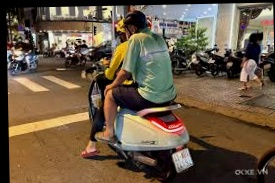Bien-so: (168, 145, 190, 172)
